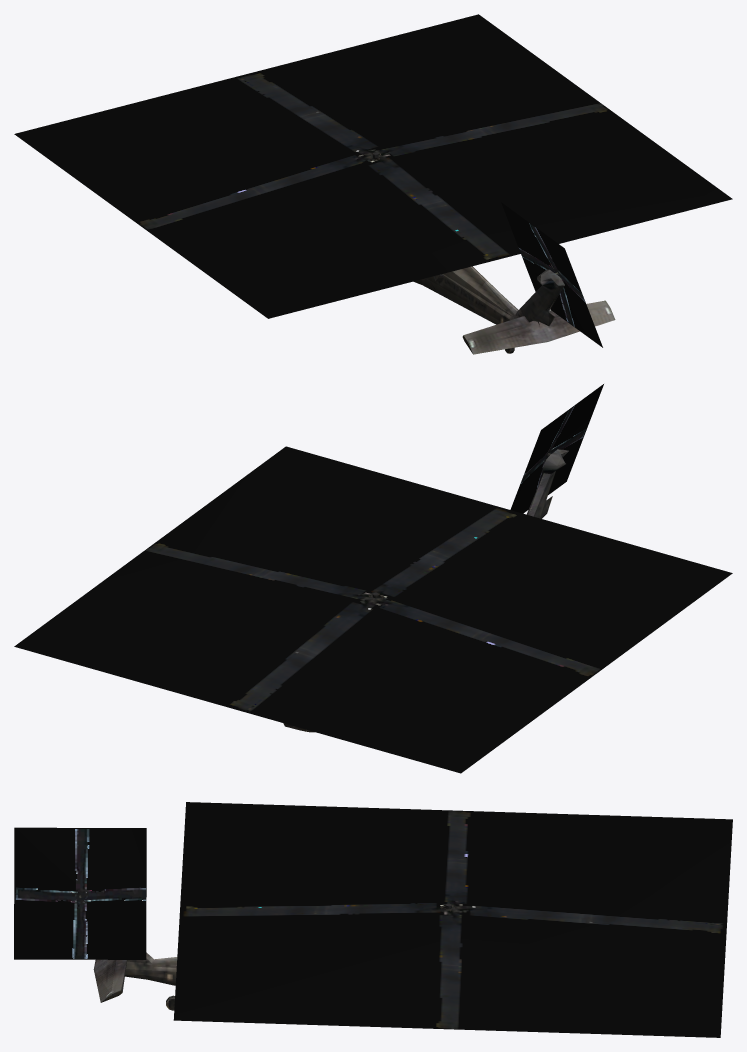
3 views of the same model, one above another, from view 1: azimuth 30°, elevation 25°; view 2: azimuth 150°, elevation 25°; view 3: azimuth 270°, elevation 25° (orthographic). The views are drawn at different scales.
Visible parts, largest first — view 1: uh60_rotor_blade, hull, uh60_rotor_blade_rear; view 2: uh60_rotor_blade, uh60_rotor_blade_rear, hull; view 3: uh60_rotor_blade, uh60_rotor_blade_rear, hull.
Part boxes in pixels (bbox=[...]): uh60_rotor_blade: bbox=[14, 14, 732, 318]; hull: bbox=[370, 152, 615, 354]; uh60_rotor_blade_rear: bbox=[501, 202, 602, 347]; uh60_rotor_blade: bbox=[14, 446, 732, 773]; uh60_rotor_blade_rear: bbox=[510, 384, 603, 513]; hull: bbox=[283, 449, 568, 732]; uh60_rotor_blade: bbox=[173, 802, 732, 1037]; uh60_rotor_blade_rear: bbox=[14, 827, 146, 959]; hull: bbox=[79, 895, 456, 1010].
Size of the model in its own units: 18.64 by 6.31 by 23.94.
Materials: 3 (3 with a texture image).
